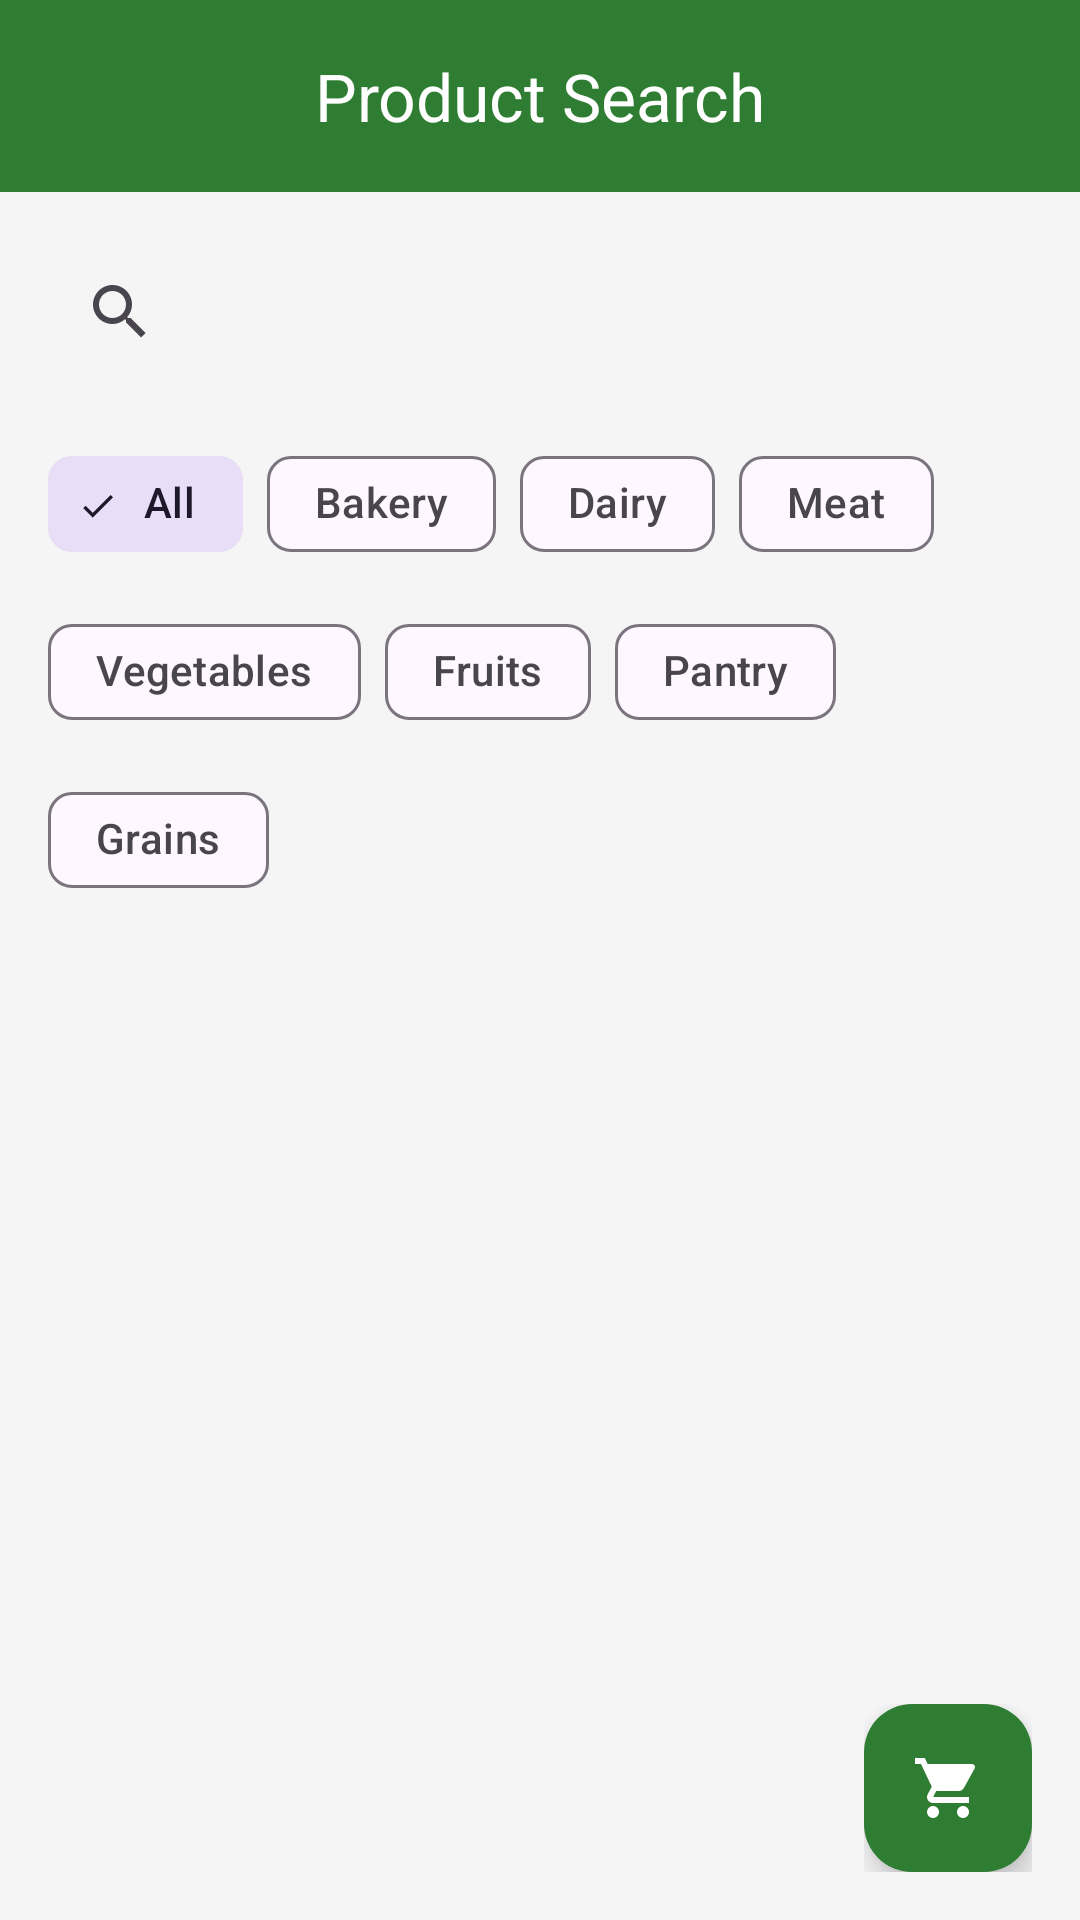

Icons on this 1080*1920 Android screen, each with its box as {"x1": x1, "y1": y1, "x2": x2, "y2": y2}:
Shopping Basket: {"x1": 864, "y1": 1704, "x2": 1032, "y2": 1872}
